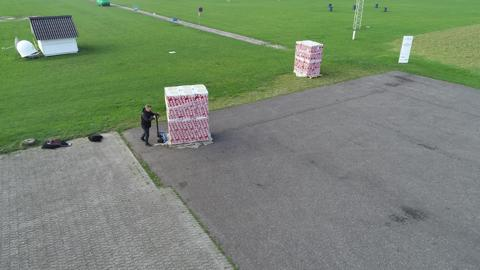RockwoolPallet: (163, 88, 212, 144)
